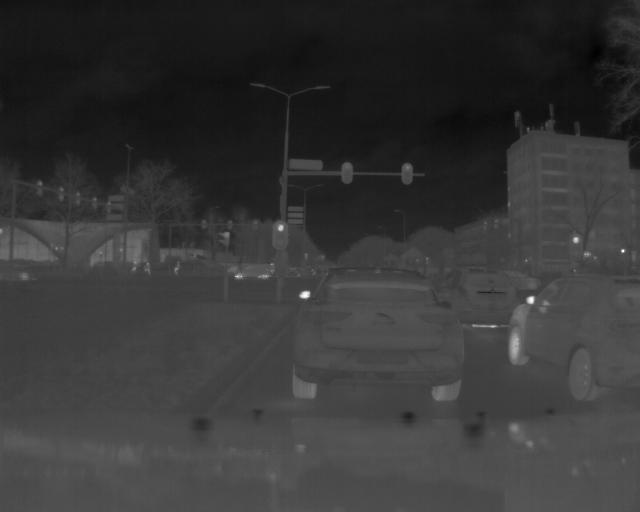car: (293, 272, 468, 404), (509, 276, 640, 410), (1, 256, 40, 282), (233, 264, 274, 280)
person: (173, 257, 183, 275), (143, 260, 152, 277), (130, 258, 138, 274)
